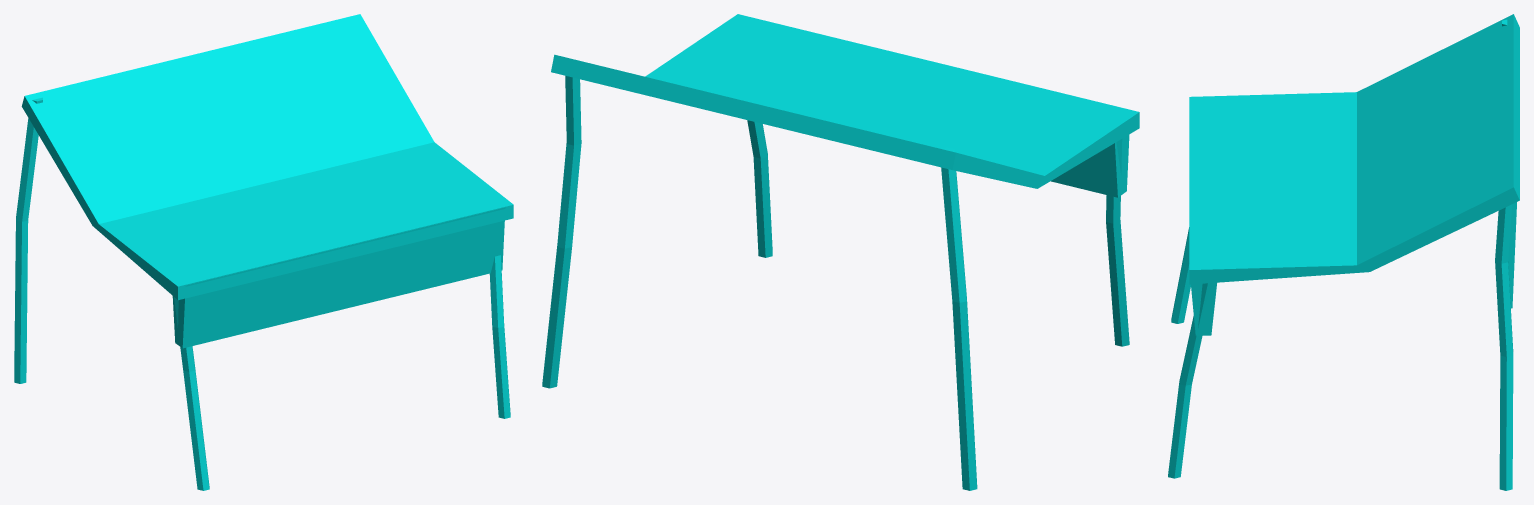
Rendered from SM_Bld_Tent_01_Collision.fbx.
The picture shows the model from 3 angles, left to right: view 1: azimuth 30°, elevation 25°; view 2: azimuth 150°, elevation 25°; view 3: azimuth 270°, elevation 25°; orthographic projection. The views are drawn at different scales.
Visible parts, largest first — view 1: SM_Bld_Tent_01_Collision; view 2: SM_Bld_Tent_01_Collision; view 3: SM_Bld_Tent_01_Collision.
Part boxes in pixels (x1,y1,x2,y2): SM_Bld_Tent_01_Collision: (14, 14, 513, 490); SM_Bld_Tent_01_Collision: (542, 14, 1139, 490); SM_Bld_Tent_01_Collision: (1168, 14, 1519, 490).
Size of the model in its own units: 399 by 294 by 316.
